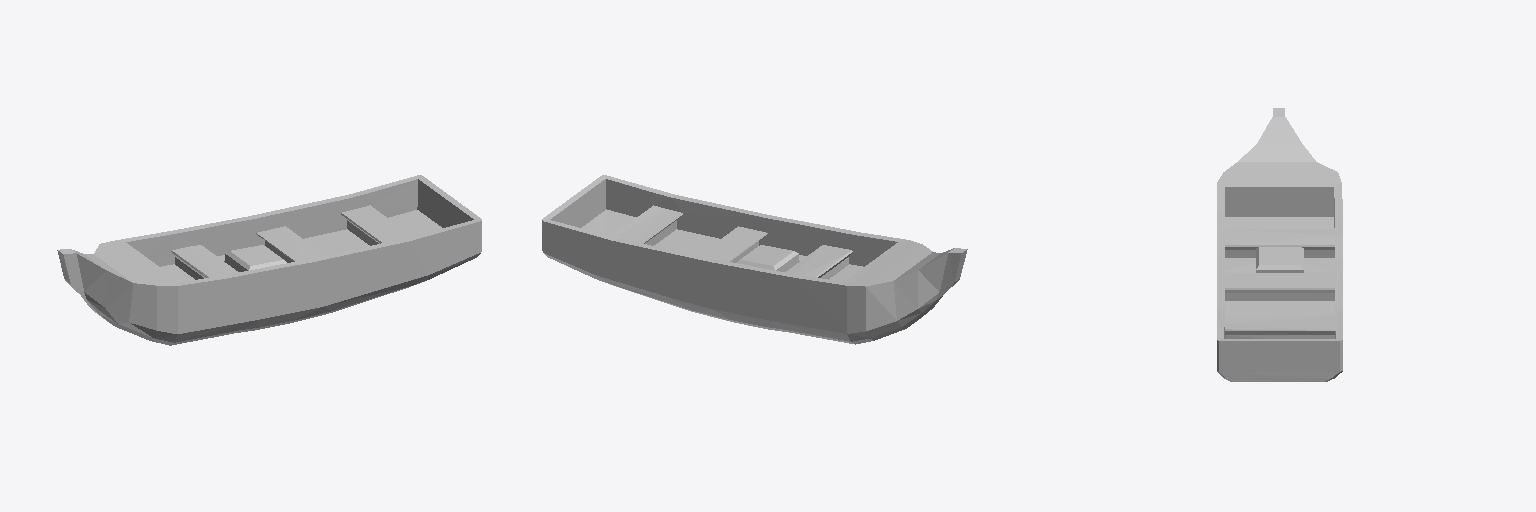
File: wip_boat_optimized.obj
3 views of the same model, side by side, from view 1: azimuth 30°, elevation 25°; view 2: azimuth 150°, elevation 25°; view 3: azimuth 270°, elevation 25° (orthographic).
Parts seen in each view (by area): view 1: Cube_Cube.002; view 2: Cube_Cube.002; view 3: Cube_Cube.002.
Boxes of the visible parts, <box> form: Cube_Cube.002: <box>57,175,481,345</box>; Cube_Cube.002: <box>542,175,967,344</box>; Cube_Cube.002: <box>1217,108,1342,381</box>.
Bounding box in the file's own units: 17.41 × 4.43 × 4.85.